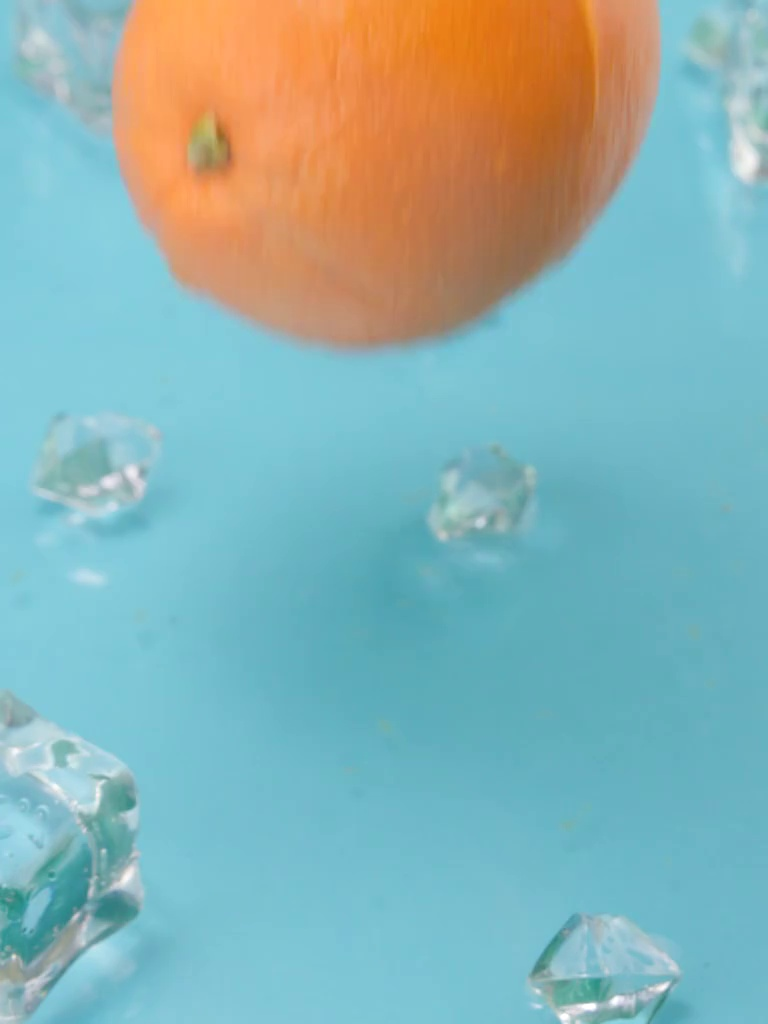Orange: (122, 1, 659, 352)
